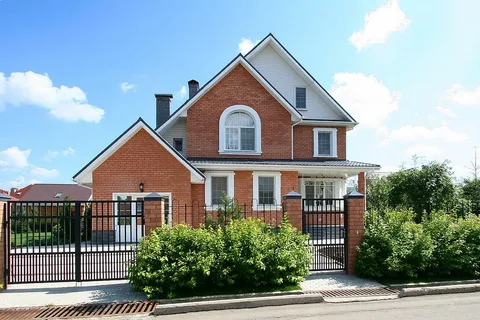private_hause: (72, 30, 379, 234)
